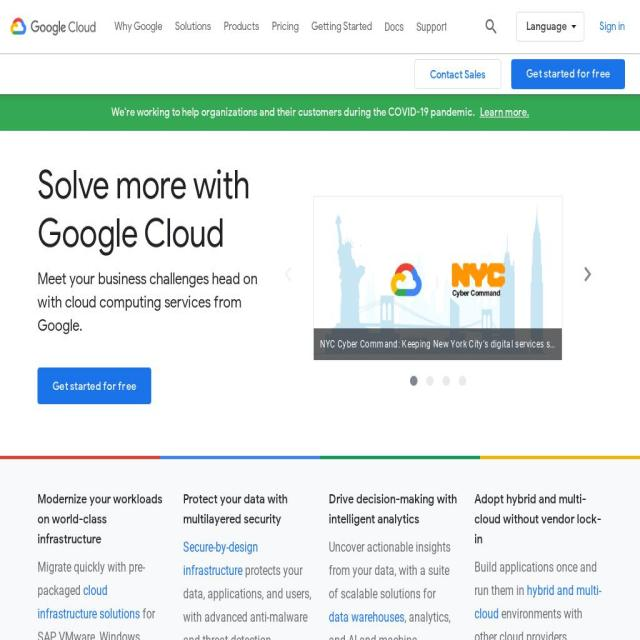button: (0, 94, 640, 131), (37, 368, 152, 404), (511, 59, 625, 89), (414, 59, 502, 89), (10, 13, 97, 40), (516, 12, 584, 42), (594, 12, 630, 42)
field: (476, 12, 506, 42)
heading: (50, 489, 590, 549), (38, 161, 273, 257), (474, 489, 602, 549), (183, 489, 311, 529), (329, 489, 457, 529)
image: (313, 196, 562, 355), (10, 13, 97, 40), (50, 456, 590, 459), (160, 456, 320, 459), (320, 456, 480, 459), (480, 456, 640, 459)
link: (474, 582, 602, 622), (38, 582, 140, 622), (311, 0, 371, 53), (183, 540, 258, 578), (114, 0, 162, 53), (175, 0, 211, 53), (223, 0, 259, 53), (416, 0, 447, 53), (272, 0, 299, 53), (329, 609, 404, 625), (384, 0, 403, 53), (480, 105, 530, 119)
text: (50, 560, 590, 598), (38, 268, 273, 338), (183, 562, 311, 640), (313, 328, 562, 361), (328, 539, 451, 602), (111, 105, 477, 119), (474, 560, 597, 598), (37, 606, 155, 640), (328, 609, 451, 640), (474, 606, 582, 640), (276, 259, 300, 289), (576, 259, 598, 289)
